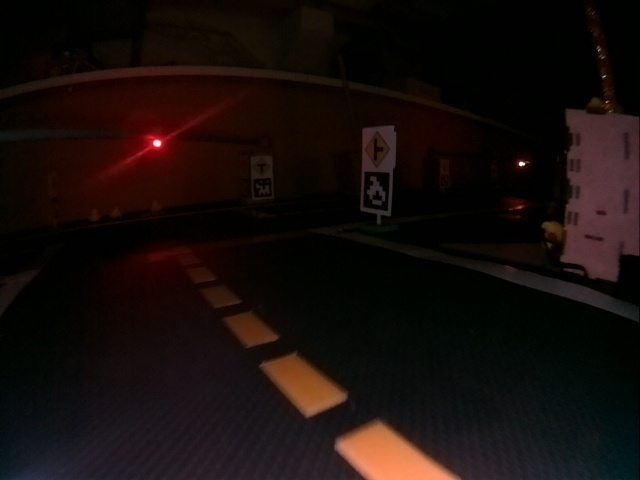Duckie: (540, 220, 565, 249), (150, 200, 160, 210), (111, 206, 120, 216), (89, 210, 99, 219)
Intersection sign: (364, 131, 391, 168), (253, 158, 270, 175)
QR code: (362, 171, 390, 212), (252, 178, 271, 198)
